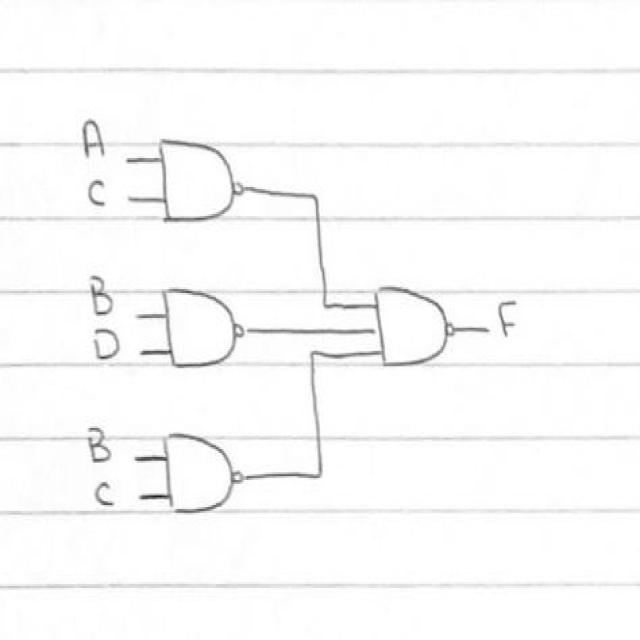NAND: (360, 264, 463, 381), (151, 271, 252, 388), (148, 116, 248, 234), (158, 417, 244, 528)
